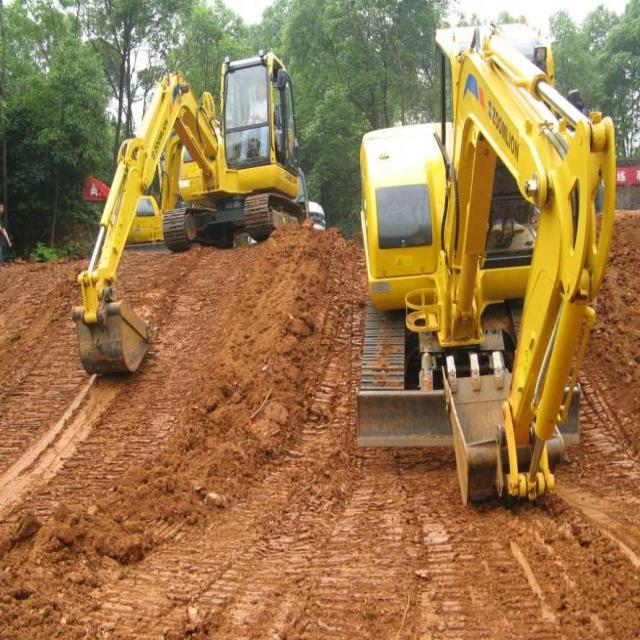excavator: (344, 14, 620, 513), (72, 54, 307, 392)
